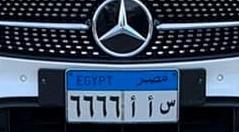6: (108, 95, 121, 118), (71, 93, 82, 119), (83, 94, 94, 118), (97, 95, 107, 119)
alif: (125, 94, 140, 120), (142, 93, 156, 118)
seen: (158, 95, 177, 117)
